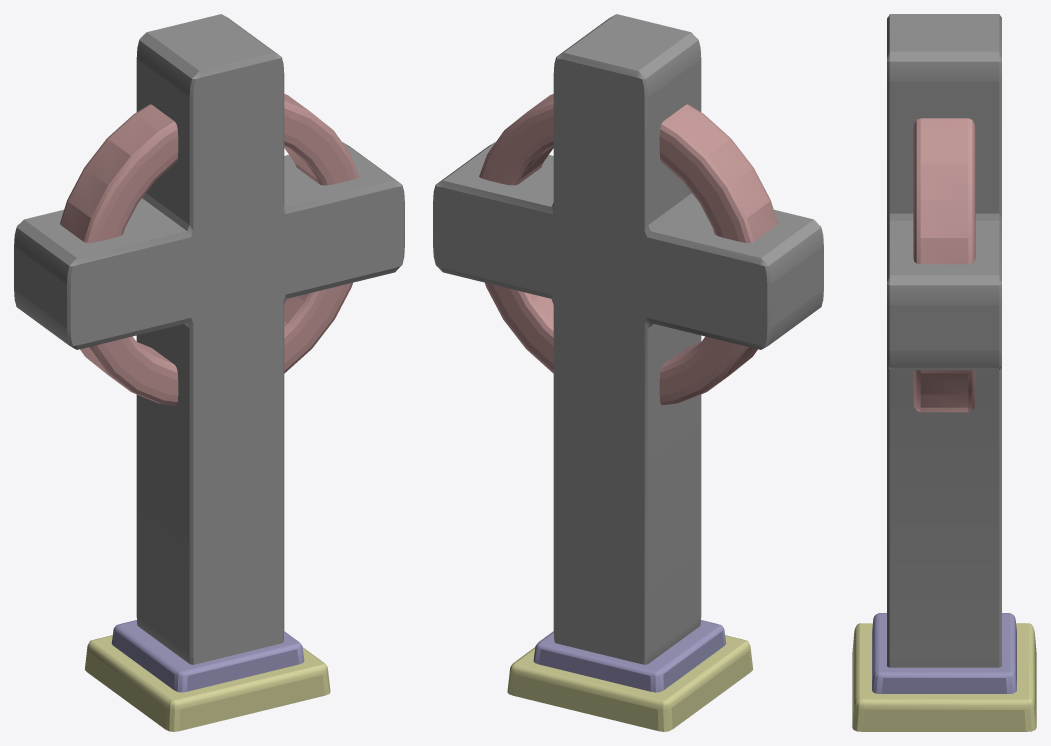
The model's file is gravestone1_low.FBX.
3 views of the same model, side by side, from view 1: azimuth 30°, elevation 25°; view 2: azimuth 150°, elevation 25°; view 3: azimuth 270°, elevation 25° (orthographic). The views are drawn at different scales.
Visible parts, largest first — view 1: body_low, circle_low, bottom_low, bot_low; view 2: body_low, circle_low, bottom_low, bot_low; view 3: body_low, circle_low, bottom_low, bot_low.
Boxes of the visible parts, x1,y1,x2,y2 form: body_low: (14, 14, 404, 664); circle_low: (60, 94, 358, 405); bottom_low: (84, 635, 330, 731); bot_low: (111, 620, 304, 692); body_low: (433, 14, 823, 664); circle_low: (479, 94, 777, 405); bottom_low: (507, 635, 753, 731); bot_low: (533, 620, 726, 692); body_low: (887, 14, 1001, 667); circle_low: (913, 118, 975, 412); bottom_low: (852, 623, 1036, 731); bot_low: (872, 613, 1016, 693).
Bounding box in the file's own units: 66.24 × 119 × 30.27.
